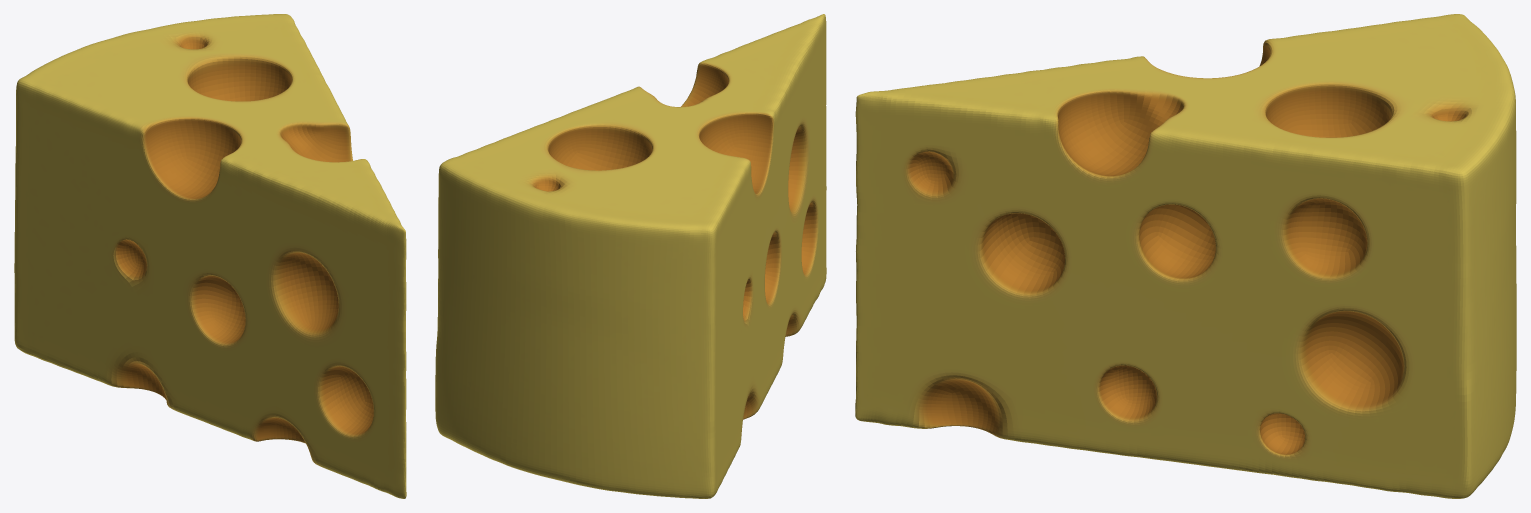
The model's file is cheese.fbx.
3 views of the same model, side by side, from view 1: azimuth 30°, elevation 25°; view 2: azimuth 150°, elevation 25°; view 3: azimuth 270°, elevation 25° (orthographic). The views are drawn at different scales.
Visible parts, largest first — view 1: Cheese; view 2: Cheese; view 3: Cheese.
Boxes of the visible parts, x1=… form: Cheese: x1=14, y1=14, x2=406, y2=498; Cheese: x1=435, y1=14, x2=826, y2=498; Cheese: x1=855, y1=14, x2=1516, y2=498.
Size of the model in its own units: 116 by 110 by 199.
